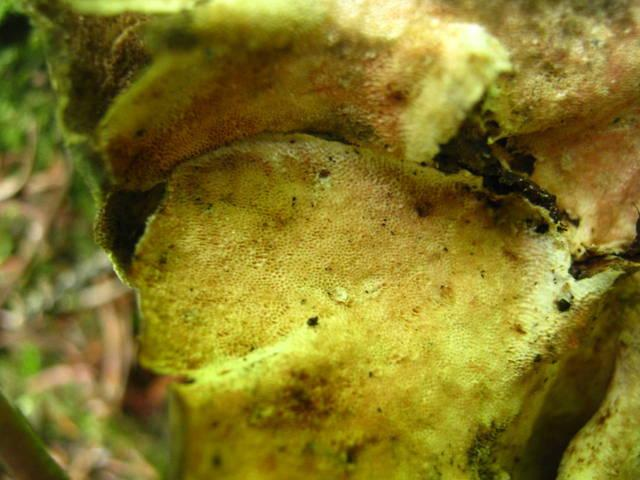Non-edible Mushroom: (25, 0, 639, 479)
